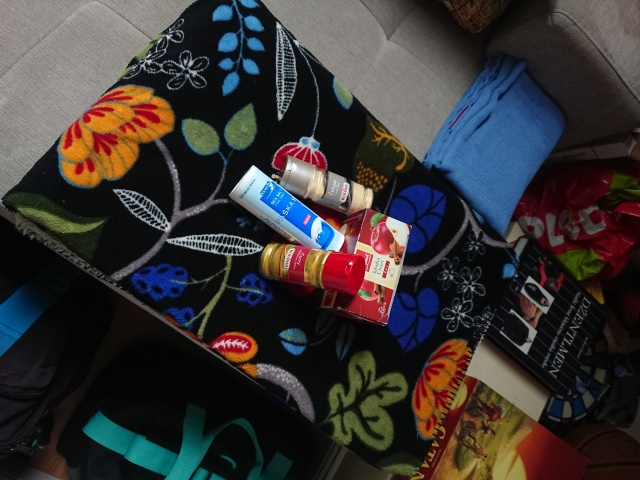Franck Apple Cinnamon Tea 60g: (317, 205, 414, 329)
Kotanyi Curry Spices Mix 70g: (256, 240, 368, 298)
Kotanyi Garlic Granules 70g: (274, 152, 376, 219)
Solana Pag Fine Sea Salt 250g: (227, 163, 349, 264)
